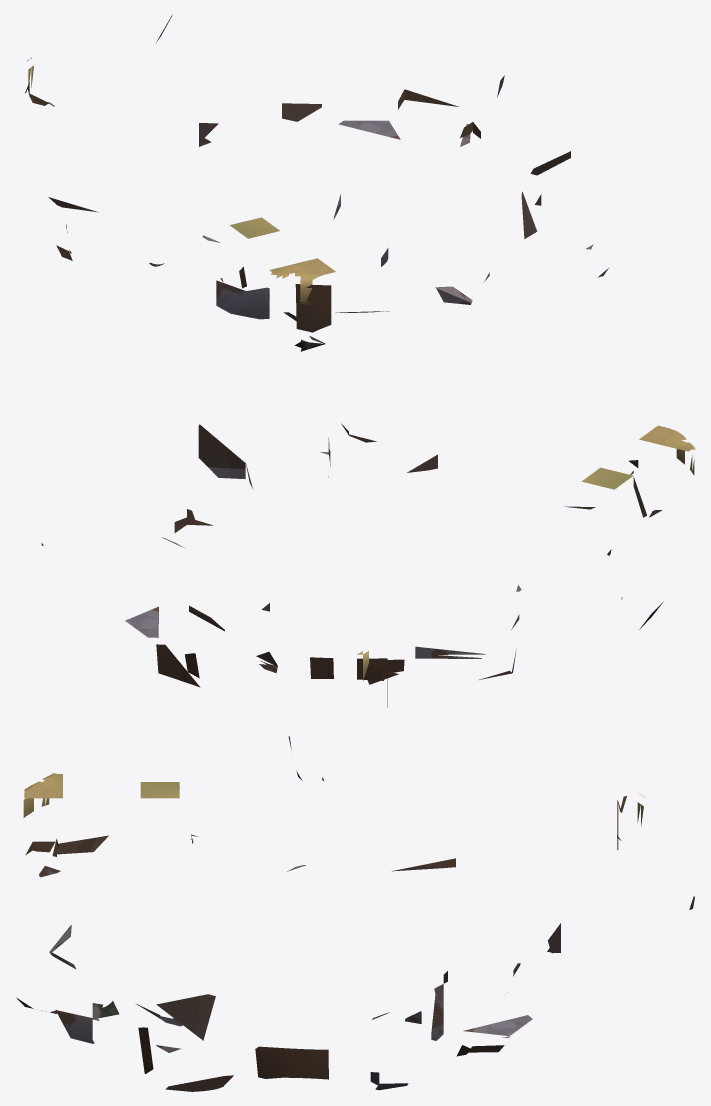
The picture shows the model from 3 angles, top to bottom: view 1: azimuth 30°, elevation 25°; view 2: azimuth 150°, elevation 25°; view 3: azimuth 270°, elevation 25°; orthographic projection. The views are drawn at different scales.
Parts seen in each view (by area): view 1: Columns_-2_-1_-2_010, Dirt_-3_-4_0, Grass_-3_-4_0_000, Columns_1_2_-1_100, Grass_-3_-3_0_010, Dirt_0_2_-1_100_011; view 2: Dirt_3_-3_-1_010_001, Dirt_-1_4_0_111, Dirt_-3_3_0_010, Grass_-3_-4_0_000, Grass_-3_-3_0_010, Columns_1_2_-1_100, Columns_-3_1_-1_100, Dirt_-3_4_0_100; view 3: Dirt_4_-1_0, Dirt_1_-2_-1_100, Columns_1_-4_-1_110, Grass_-3_-4_0_000, Columns_1_2_-1_100, Grass_-3_-3_0_010, Dirt_4_-2_-1_000, Dirt_-3_-4_-1_011, Columns_1_1_-1_100_011.
Part boxes in pixels (x1,y1,x2,y2): Columns_-2_-1_-2_010: (216, 280, 269, 319); Dirt_-3_-4_0: (295, 284, 331, 332); Grass_-3_-4_0_000: (285, 258, 335, 304); Columns_1_2_-1_100: (338, 120, 400, 139); Grass_-3_-3_0_010: (230, 217, 279, 238); Dirt_0_2_-1_100_011: (282, 103, 321, 121); Dirt_3_-3_-1_010_001: (198, 424, 245, 469); Dirt_-1_4_0_111: (156, 644, 200, 687); Dirt_-3_3_0_010: (357, 658, 404, 680); Grass_-3_-4_0_000: (639, 425, 686, 464); Grass_-3_-3_0_010: (582, 467, 633, 489); Columns_1_2_-1_100: (125, 606, 158, 637); Columns_-3_1_-1_100: (415, 646, 485, 658); Dirt_-3_4_0_100: (310, 657, 333, 678); Dirt_4_-1_0: (255, 1046, 328, 1079); Dirt_1_-2_-1_100: (156, 994, 215, 1040); Columns_1_-4_-1_110: (57, 1003, 105, 1043); Grass_-3_-4_0_000: (23, 781, 62, 817); Columns_1_2_-1_100: (463, 1015, 532, 1037); Grass_-3_-3_0_010: (140, 782, 179, 798); Dirt_4_-2_-1_000: (166, 1075, 233, 1091); Dirt_-3_-4_-1_011: (57, 835, 108, 854); Columns_1_1_-1_100_011: (431, 984, 443, 1040).
Size of the model in its own units: 612 by 166 by 563.
63 materials, 63 textured.
